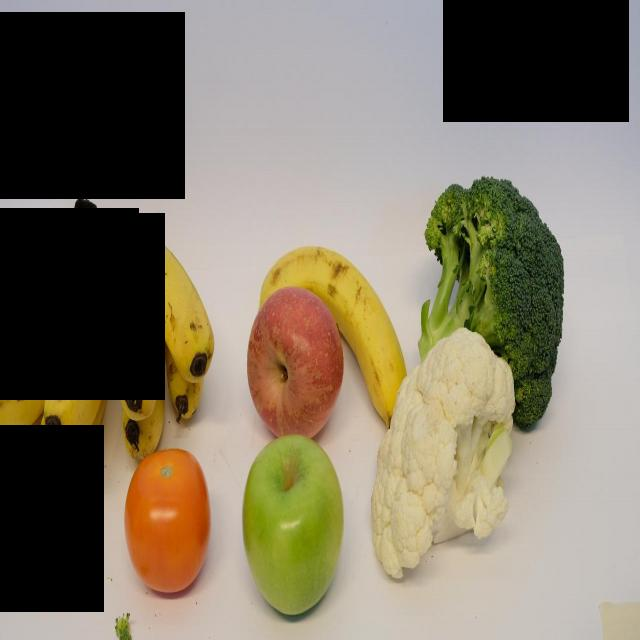apple: (242, 434, 341, 618), (246, 284, 344, 438)
banana: (256, 244, 407, 428), (1, 205, 78, 446), (107, 222, 214, 379), (40, 245, 111, 452), (100, 240, 164, 425)
broccoli: (417, 174, 565, 427)
cauliflower: (369, 326, 516, 581)
tomato: (124, 446, 213, 594)
